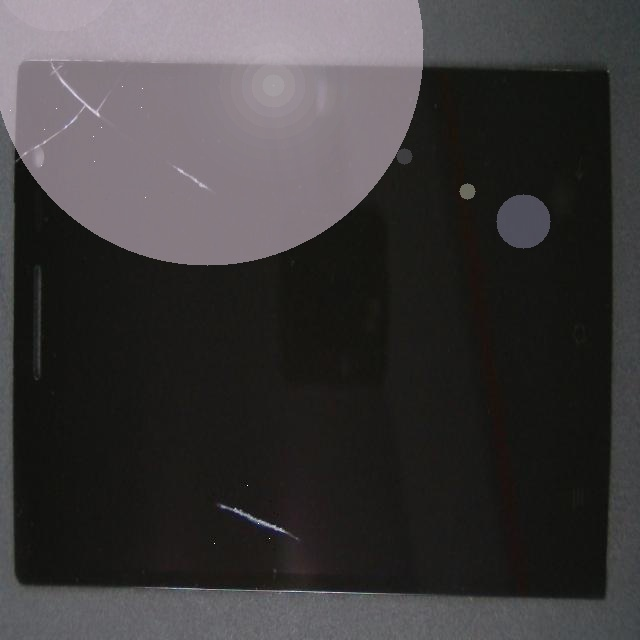scratch: (151, 278, 452, 640), (92, 56, 252, 236), (3, 47, 17, 250)
